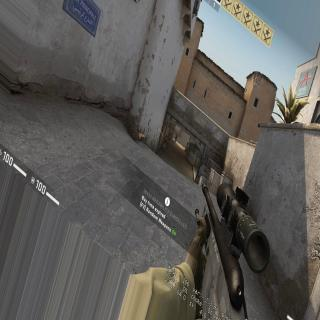T-Body: (162, 135, 168, 152), (174, 132, 178, 143)
T-Head: (176, 132, 178, 134), (166, 135, 167, 138)
